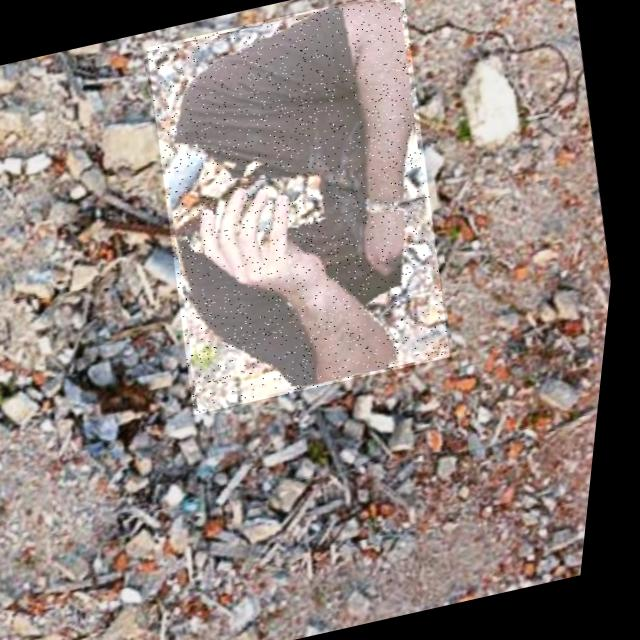Person in Rubble: (117, 0, 486, 413)
